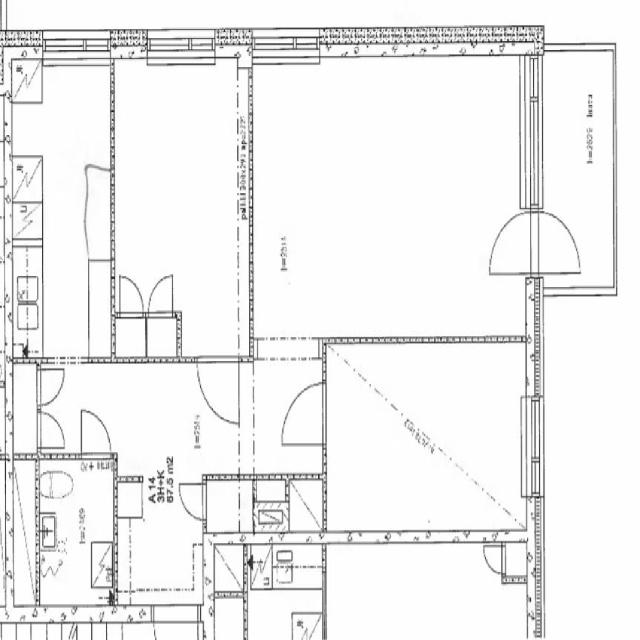door: (195, 350, 243, 432), (277, 376, 329, 451), (536, 206, 583, 277), (486, 207, 532, 277), (76, 403, 115, 462), (144, 268, 180, 320), (114, 270, 147, 320), (176, 478, 208, 524), (37, 362, 67, 409), (38, 408, 68, 454), (481, 540, 506, 576)
window: (517, 55, 548, 214), (143, 26, 220, 70), (40, 26, 112, 69), (250, 25, 323, 67), (520, 390, 546, 498)
zone: (111, 56, 249, 346), (323, 342, 526, 538), (10, 64, 117, 360), (114, 479, 206, 608), (38, 458, 115, 604), (245, 542, 325, 640), (289, 475, 325, 536), (205, 478, 244, 534), (212, 538, 246, 595), (213, 594, 247, 640), (502, 538, 529, 585)
